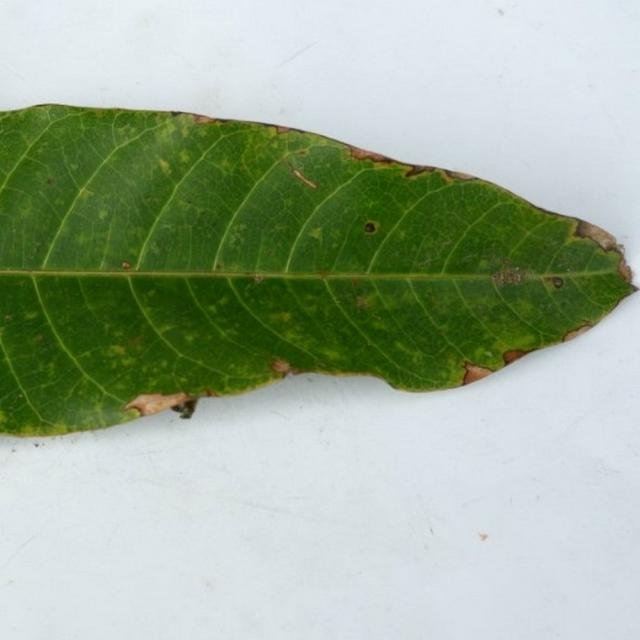Mango: (0, 104, 636, 435)
Powdery_Mildew: (279, 143, 343, 192), (575, 221, 623, 255), (273, 41, 320, 73), (489, 260, 534, 287), (346, 146, 397, 164), (223, 223, 249, 253), (460, 362, 495, 384), (290, 164, 318, 189), (561, 323, 595, 343), (614, 254, 634, 284), (154, 154, 177, 179), (404, 164, 441, 178), (441, 169, 480, 181), (502, 349, 529, 366), (269, 358, 293, 376), (120, 334, 145, 348), (319, 348, 343, 361), (273, 311, 293, 323), (157, 157, 171, 173), (76, 188, 94, 200), (308, 227, 323, 241), (178, 150, 192, 165), (292, 168, 306, 183), (475, 258, 492, 270), (355, 296, 370, 309), (192, 115, 216, 123), (550, 276, 564, 289), (111, 345, 126, 356), (274, 223, 289, 234), (274, 125, 292, 134), (23, 310, 39, 320), (202, 388, 218, 398), (32, 241, 43, 255), (363, 222, 377, 233), (97, 209, 109, 220), (236, 222, 247, 232), (207, 305, 219, 314), (185, 335, 196, 344), (316, 361, 328, 369), (295, 149, 308, 156), (253, 274, 263, 283), (502, 257, 512, 266), (319, 271, 330, 279), (122, 261, 131, 270), (34, 334, 44, 342), (214, 262, 223, 270), (4, 314, 13, 322), (352, 279, 361, 287), (46, 177, 54, 185), (6, 579, 14, 586), (497, 8, 504, 16), (485, 350, 493, 357), (5, 267, 15, 271), (11, 447, 17, 453), (514, 267, 520, 272), (567, 267, 572, 272), (34, 443, 40, 447), (19, 394, 23, 398)
